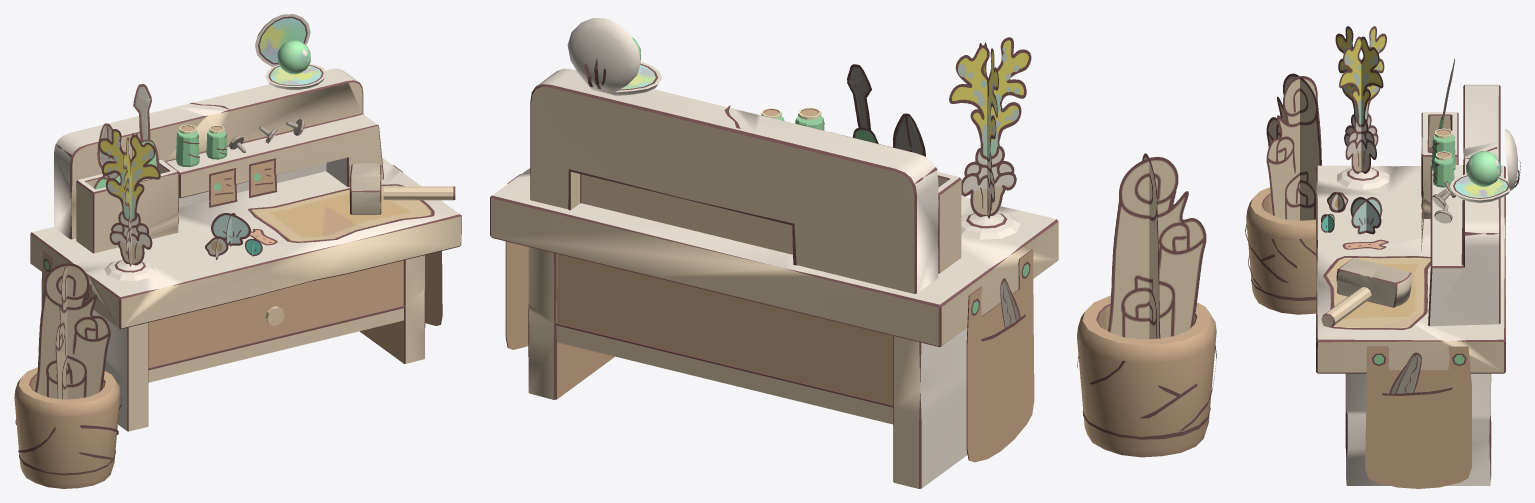
File: Mesh_Home_BH_Workbench_SM.fbx
3 views of the same model, side by side, from view 1: azimuth 30°, elevation 25°; view 2: azimuth 150°, elevation 25°; view 3: azimuth 270°, elevation 25° (orthographic). The views are drawn at different scales.
Visible parts, largest first — view 1: Mesh_Home_BH_Workbench, Mesh_Home_BH_Workbench_P; view 2: Mesh_Home_BH_Workbench, Mesh_Home_BH_Workbench_P; view 3: Mesh_Home_BH_Workbench, Mesh_Home_BH_Workbench_P.
Part boxes in pixels (box(x1,y1,x2,y2)): Mesh_Home_BH_Workbench: box(14, 14, 461, 488); Mesh_Home_BH_Workbench_P: box(35, 84, 434, 399); Mesh_Home_BH_Workbench: box(490, 18, 1216, 488); Mesh_Home_BH_Workbench_P: box(847, 37, 1206, 339); Mesh_Home_BH_Workbench: box(1245, 84, 1520, 488); Mesh_Home_BH_Workbench_P: box(1262, 26, 1454, 393).
Bounding box in the file's own units: 244 × 159 × 123.
